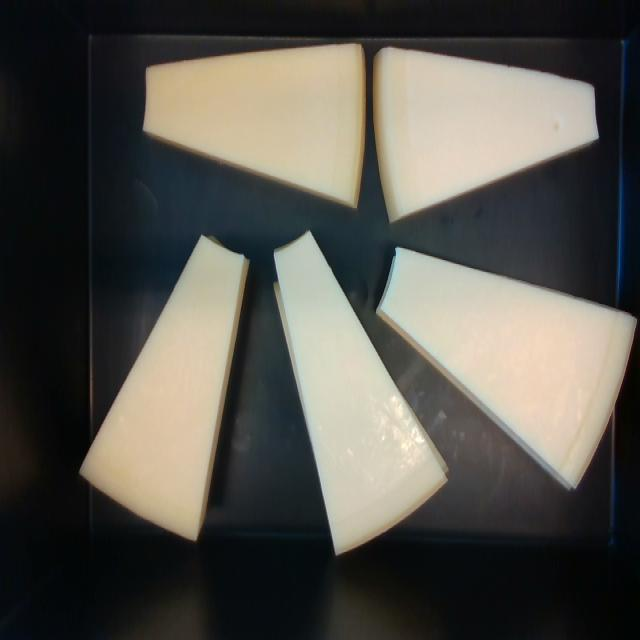cheese: (378, 249, 633, 484), (275, 232, 445, 552), (81, 236, 248, 539), (376, 49, 597, 219), (143, 44, 364, 204)
